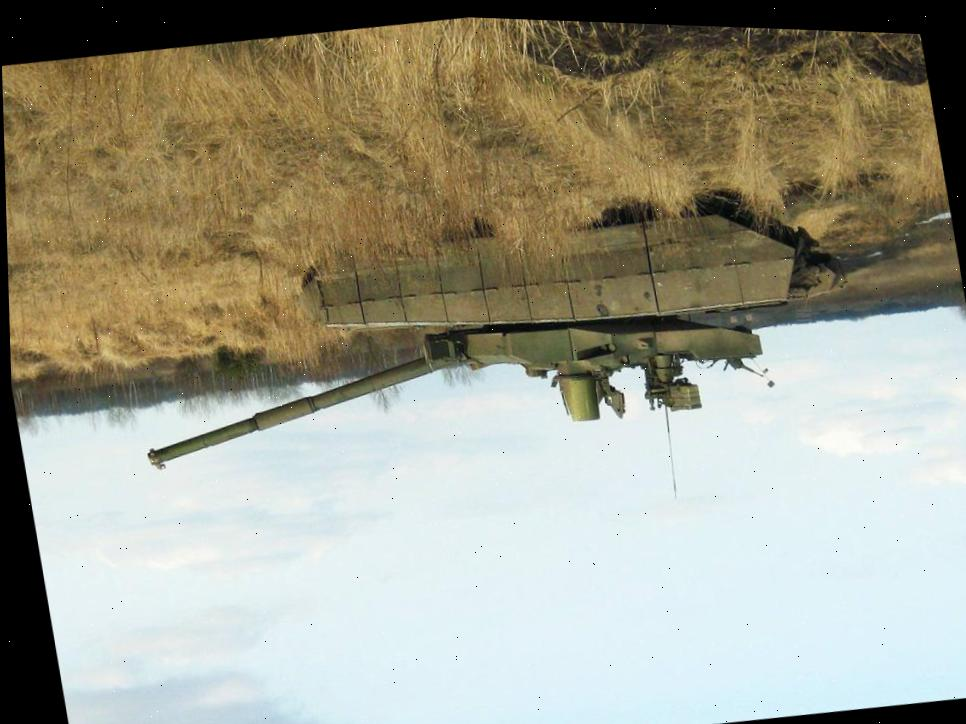tank: (107, 146, 868, 504)
